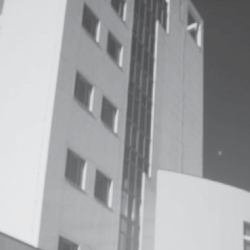Target: (218, 151, 220, 154)
